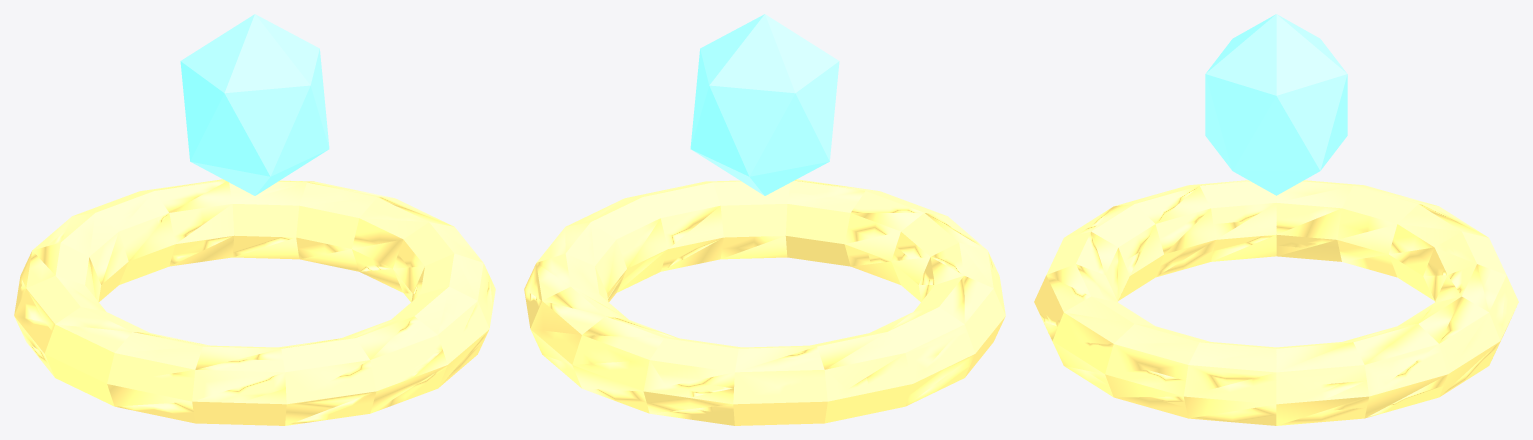
Rendered from ring.glb.
The picture shows the model from 3 angles, left to right: view 1: azimuth 30°, elevation 25°; view 2: azimuth 150°, elevation 25°; view 3: azimuth 270°, elevation 25°; orthographic projection.
Visible parts, largest first — view 1: RingBand; view 2: RingBand; view 3: RingBand.
Part boxes in pixels (x1,y1,x2,y2): RingBand: [14, 14, 495, 425]; RingBand: [524, 14, 1005, 425]; RingBand: [1034, 14, 1518, 425].
Bounding box in the file's own units: 0.58 × 0.43 × 0.58.
